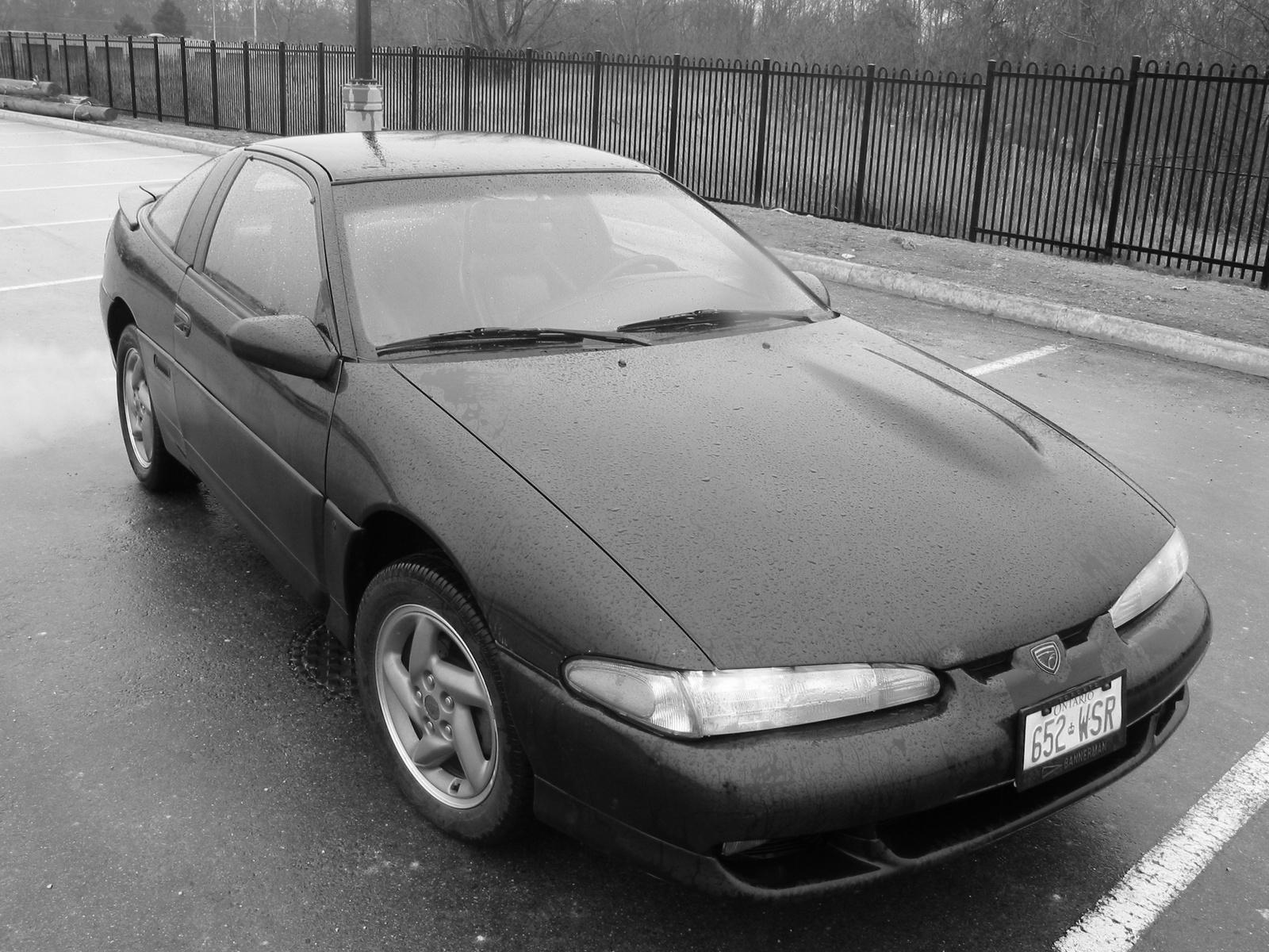car: (103, 134, 1219, 917)
